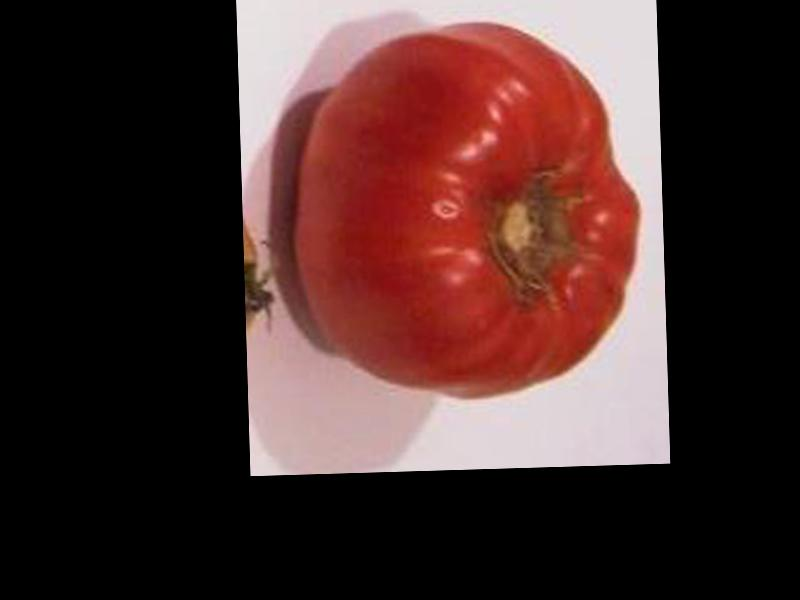Tomato: (294, 22, 642, 401)
